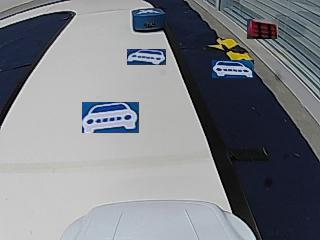prop: (133, 8, 166, 33)
